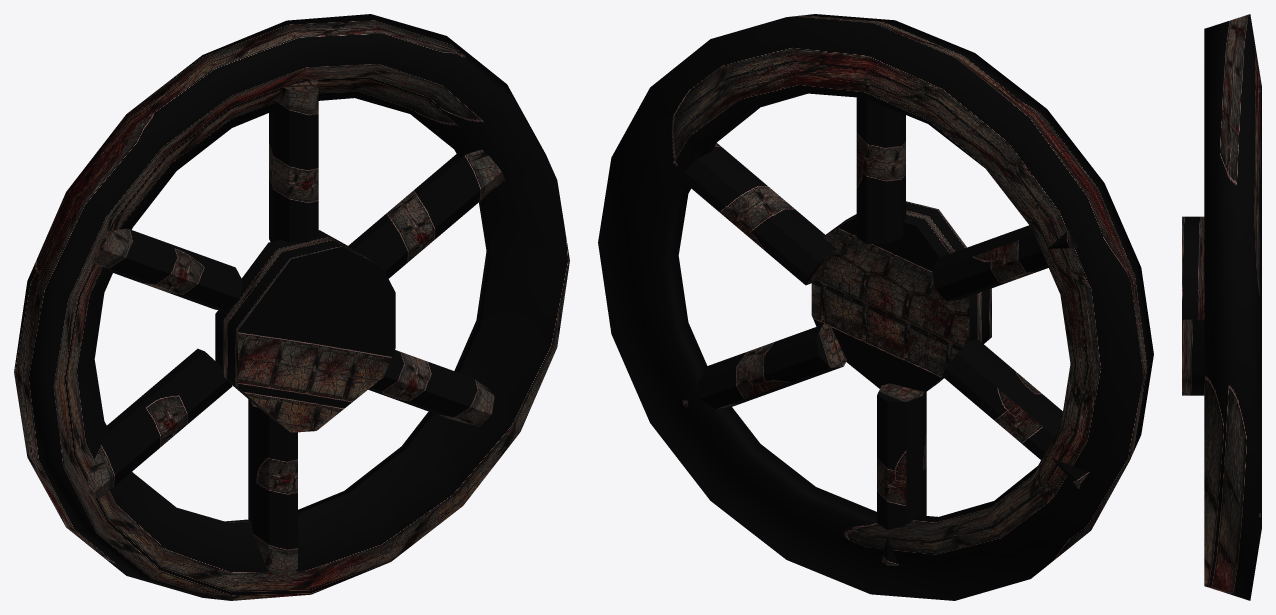
The model's file is s_wheel.fbx.
3 views of the same model, side by side, from view 1: azimuth 30°, elevation 25°; view 2: azimuth 150°, elevation 25°; view 3: azimuth 270°, elevation 25° (orthographic). The views are drawn at different scales.
Parts seen in each view (by area): view 1: pTorus13, pCylinder59, pCylinder50, pCylinder55, pCylinder44, pCylinder51, pCylinder49, pCylinder52; view 2: pTorus13, pCylinder59, pCylinder55, pCylinder51, pCylinder50, pCylinder44, pCylinder52, pCylinder49; view 3: pTorus13, pCylinder59.
Boxes of the visible parts, x1,y1,x2,y2 form: pTorus13: [14, 14, 569, 600]; pCylinder59: [215, 230, 395, 432]; pCylinder50: [87, 348, 232, 498]; pCylinder55: [348, 149, 504, 278]; pCylinder44: [269, 79, 318, 242]; pCylinder51: [248, 399, 297, 575]; pCylinder49: [93, 228, 242, 310]; pCylinder52: [368, 350, 494, 426]; pTorus13: [598, 14, 1153, 600]; pCylinder59: [811, 201, 991, 391]; pCylinder55: [672, 143, 836, 285]; pCylinder51: [877, 383, 926, 565]; pCylinder50: [942, 339, 1089, 488]; pCylinder44: [856, 78, 905, 244]; pCylinder52: [682, 324, 846, 408]; pCylinder49: [932, 225, 1077, 300]; pTorus13: [1204, 14, 1261, 600]; pCylinder59: [1182, 216, 1204, 395].
Size of the model in its own units: 1.31 by 1.31 by 0.1768.
